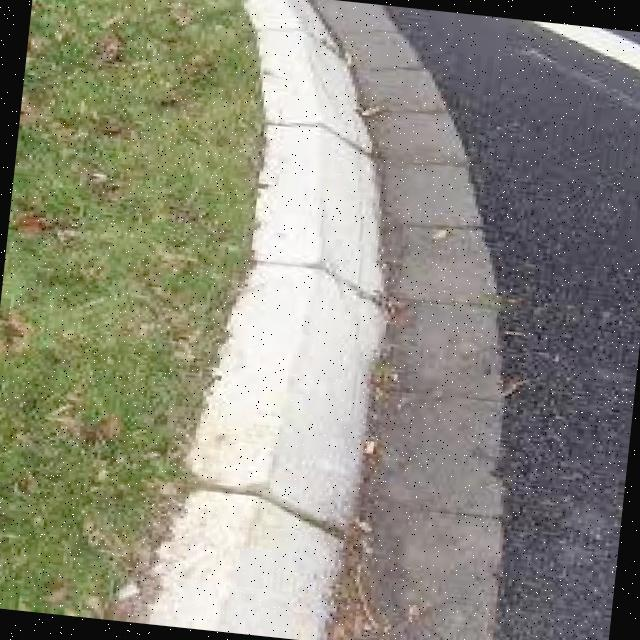curb: (133, 215, 379, 633), (218, 1, 415, 269)
